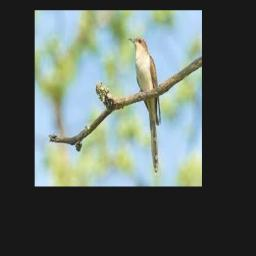Cuckoo: (127, 37, 161, 173)
